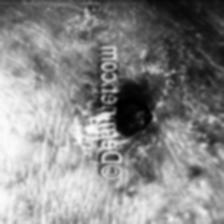Potentially Malignant Skin Tumors: (89, 94, 155, 138)
